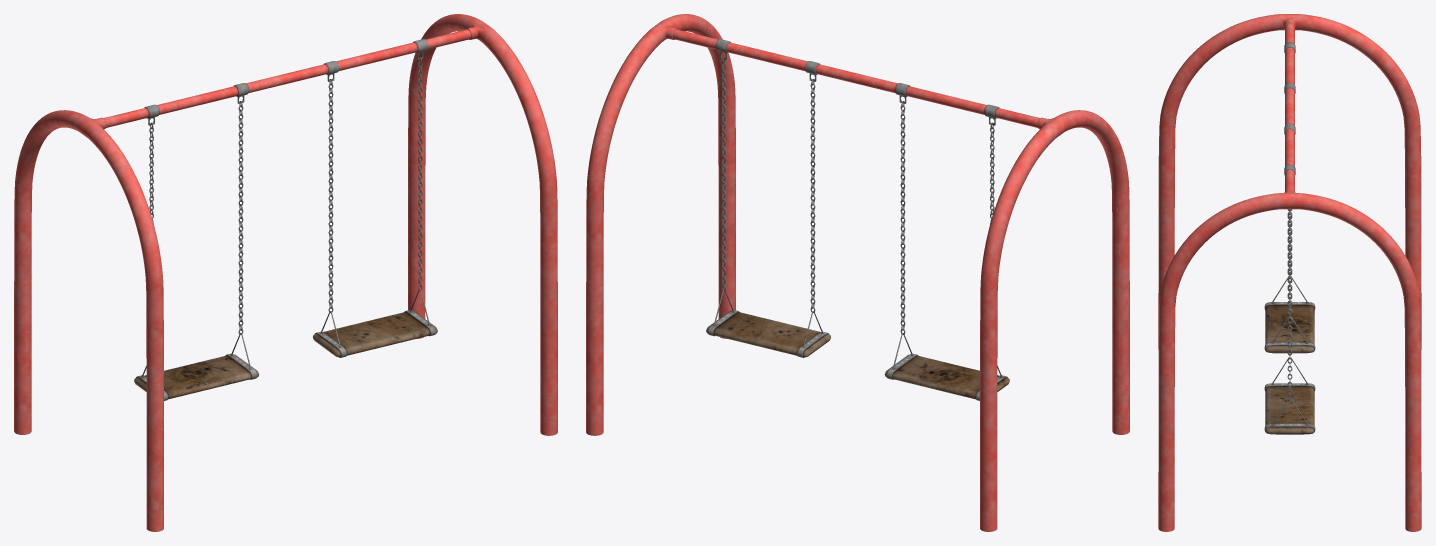
File: old_swings.glb
The picture shows the model from 3 angles, left to right: view 1: azimuth 30°, elevation 25°; view 2: azimuth 150°, elevation 25°; view 3: azimuth 270°, elevation 25°; orthographic projection. The views are drawn at different scales.
Parts seen in each view (by area): view 1: Swings; view 2: Swings; view 3: Swings.
Part boxes in pixels (left/top/right/bottom): Swings: left=14, top=14, right=557, bottom=531; Swings: left=586, top=14, right=1129, bottom=531; Swings: left=1158, top=14, right=1421, bottom=531.
Bounding box in the file's own units: 28.52 × 23.95 × 17.05.
Materials: 1 (1 with a texture image).
